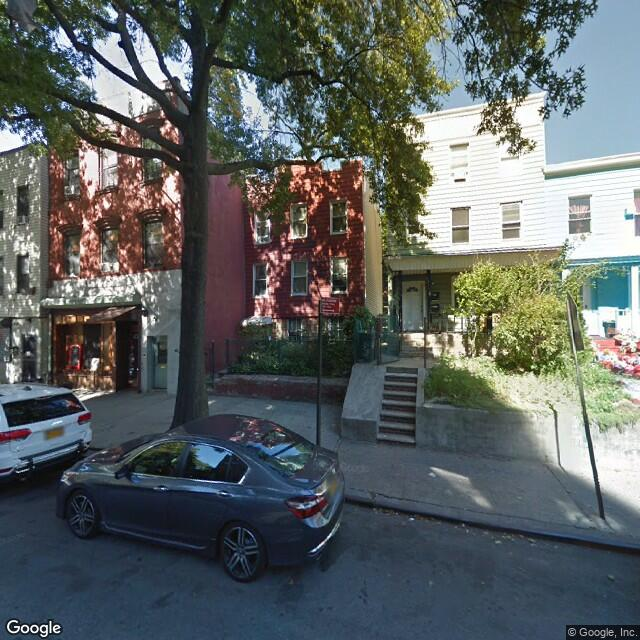litter: (420, 470, 476, 491), (401, 504, 435, 525)
